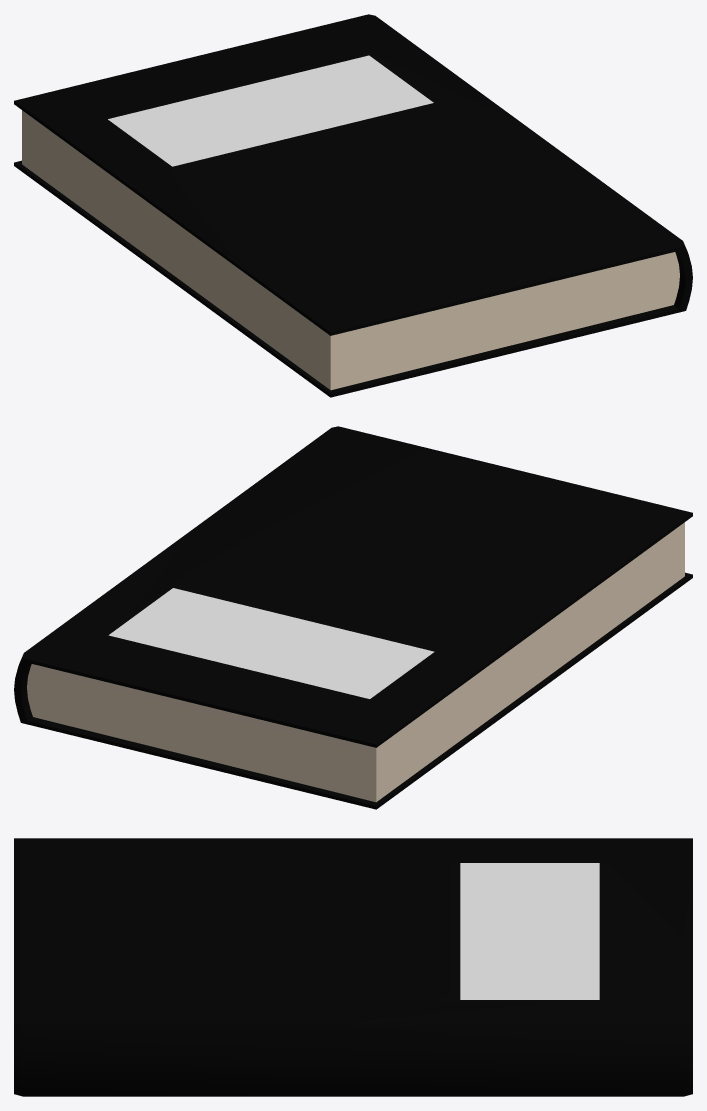
The model's file is 閉じた本.fbx.
3 views of the same model, one above another, from view 1: azimuth 30°, elevation 25°; view 2: azimuth 150°, elevation 25°; view 3: azimuth 270°, elevation 25° (orthographic). The views are drawn at different scales.
Parts seen in each view (by area): view 1: Cube; view 2: Cube; view 3: Cube.
Boxes of the visible parts, <box> form: Cube: <box>14,14,692,397</box>; Cube: <box>14,426,692,809</box>; Cube: <box>14,838,692,1096</box>.
Size of the model in its own units: 221 by 39.1 by 332.
